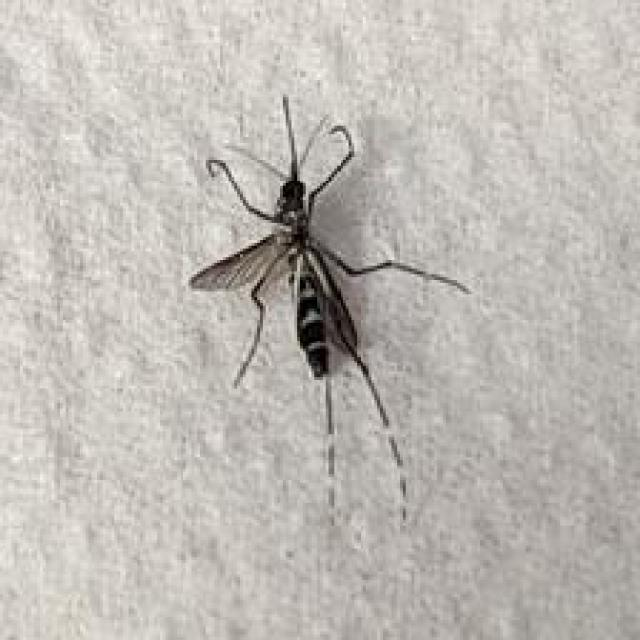Aedes albopictus: (187, 94, 473, 526)
